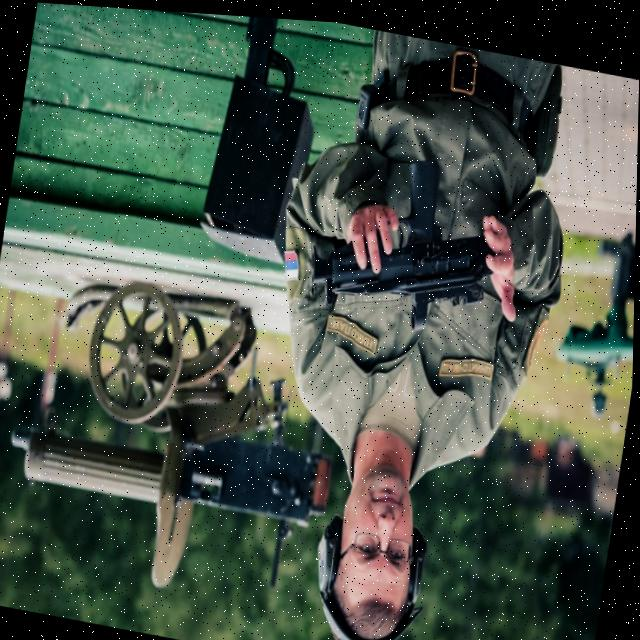firearm: (302, 132, 509, 338)
